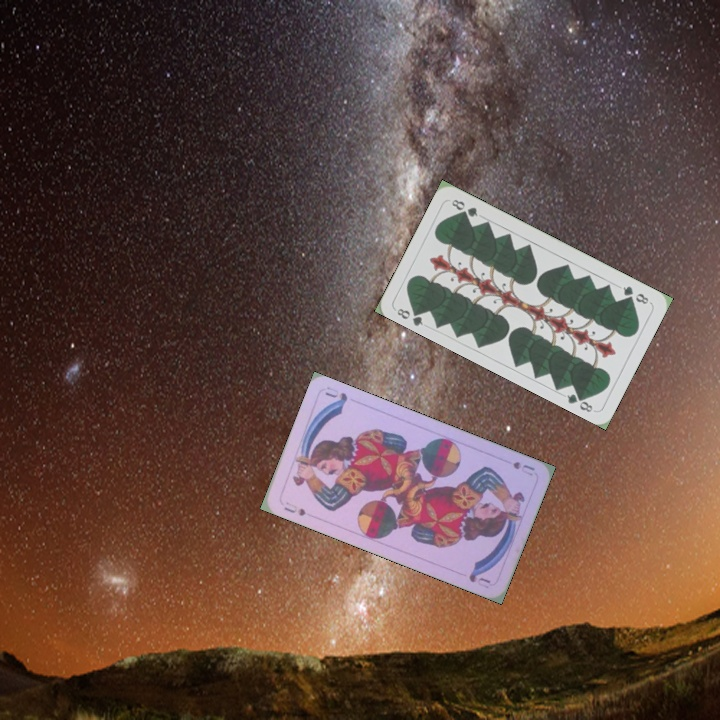G8: (393, 303, 426, 328), (619, 282, 651, 307)
SU: (508, 457, 537, 479), (280, 498, 308, 519)
